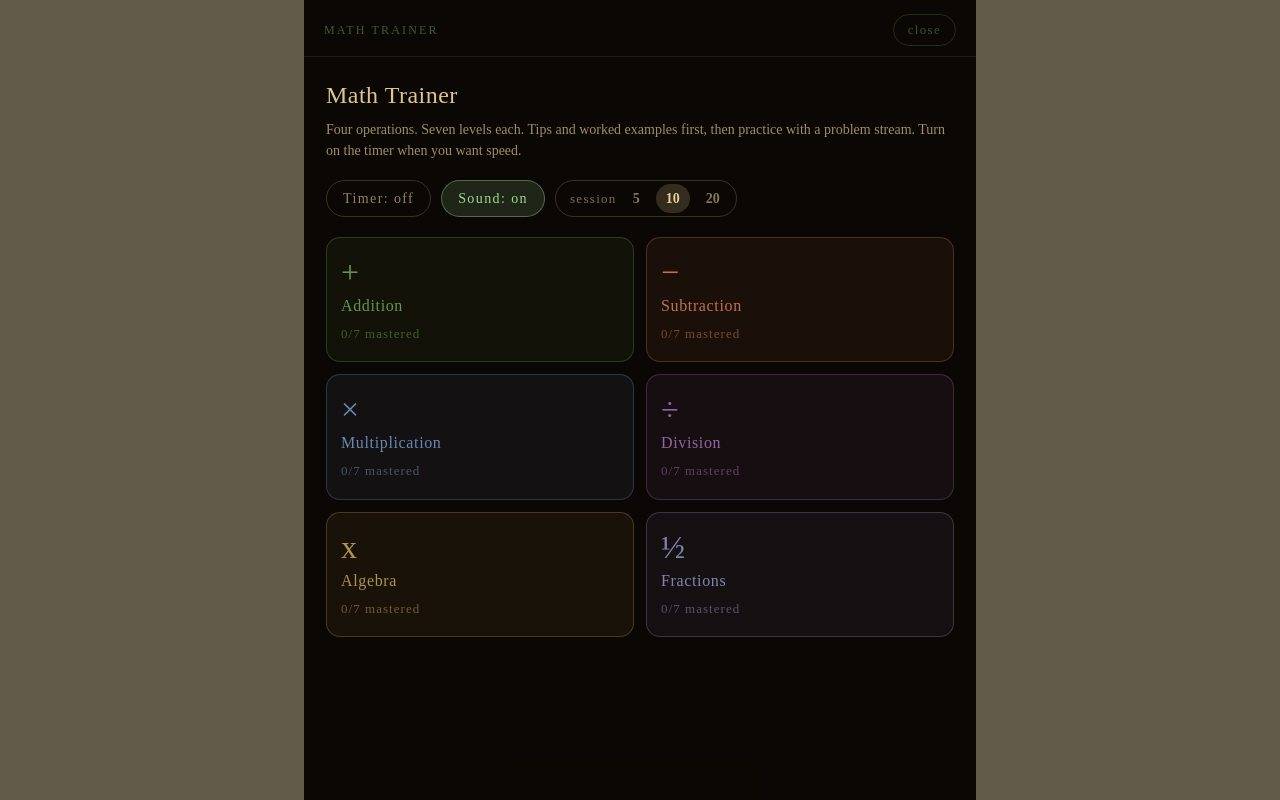
it: MathTrainer › opens the algebra track and renders L1 tips
Click the button "x Algebra 0/7 mastered": click(369, 580) [326, 512, 634, 637]
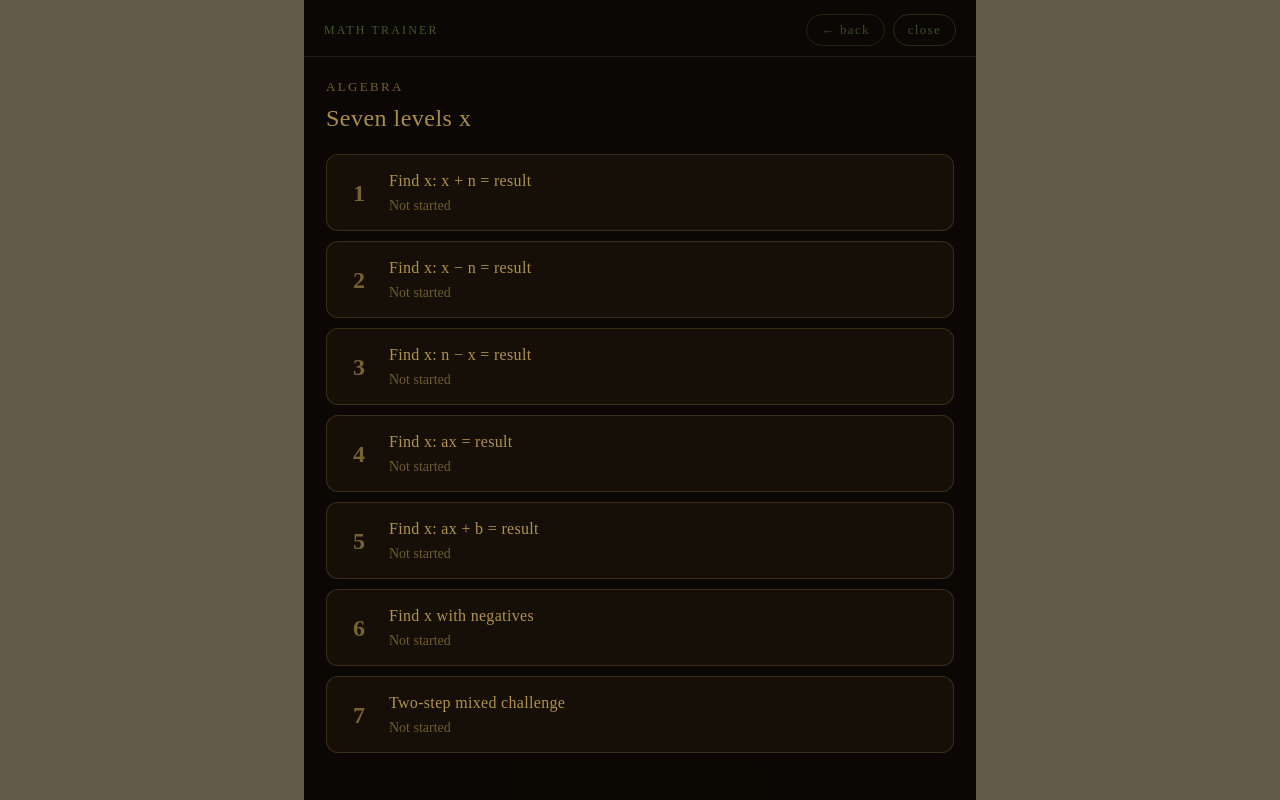
Click the button with aria-label "Open level 1: Find x: x + n = result": click(460, 180) [326, 154, 954, 231]
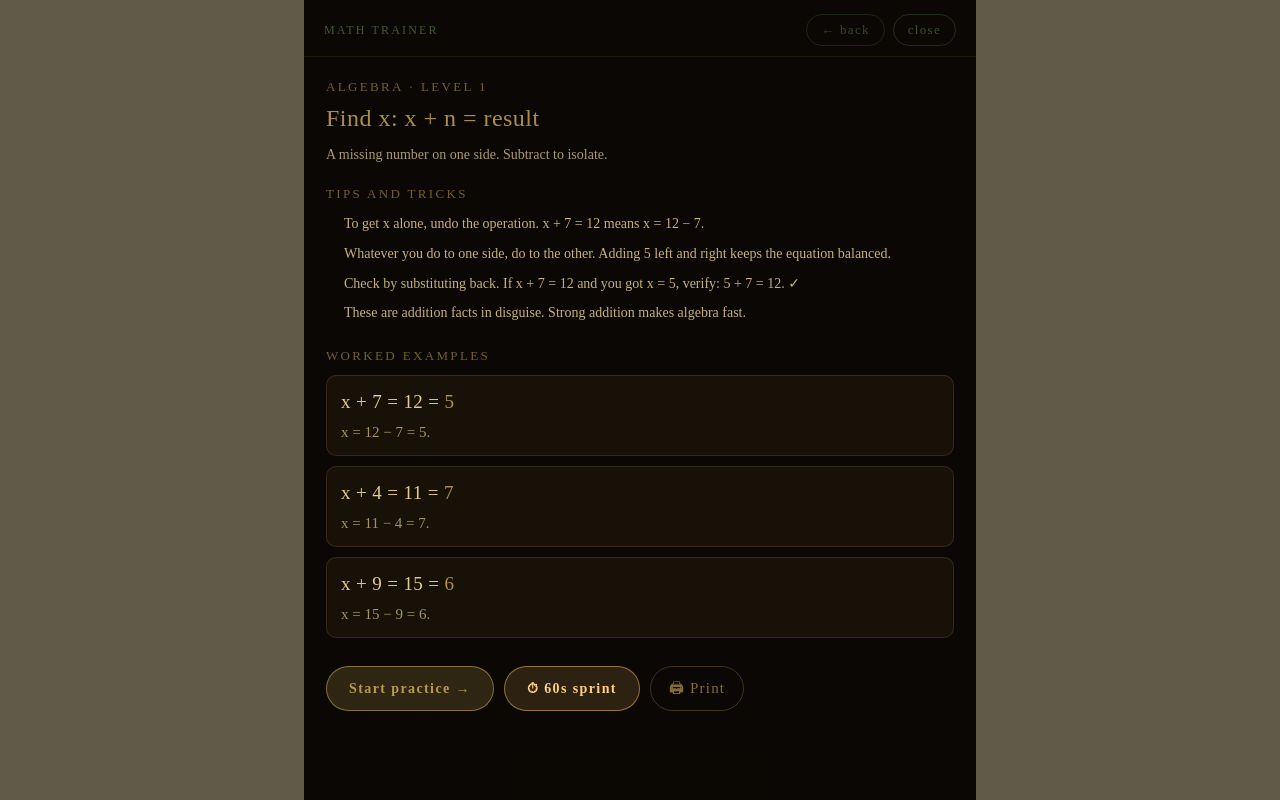
Expected: the list item "undo the operation" is shown, [344, 216, 704, 231]
